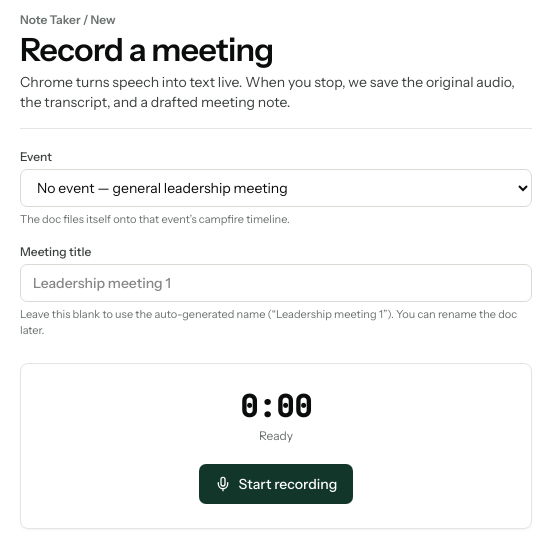
NoteTakerNewPage event picker › files under the event chosen from the dropdown
Select "Maze Day 2026" in the dropdown labelled "Event" at (276, 188), box [20,169,532,207]
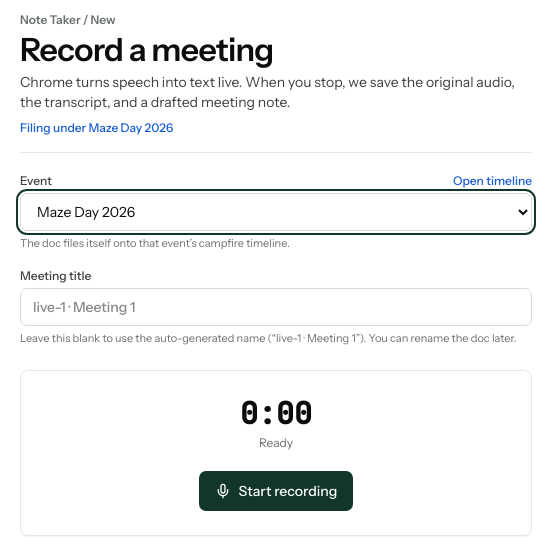
Expected: the text "Filing under Maze Day 2026" is shown, [20,120,173,135]
